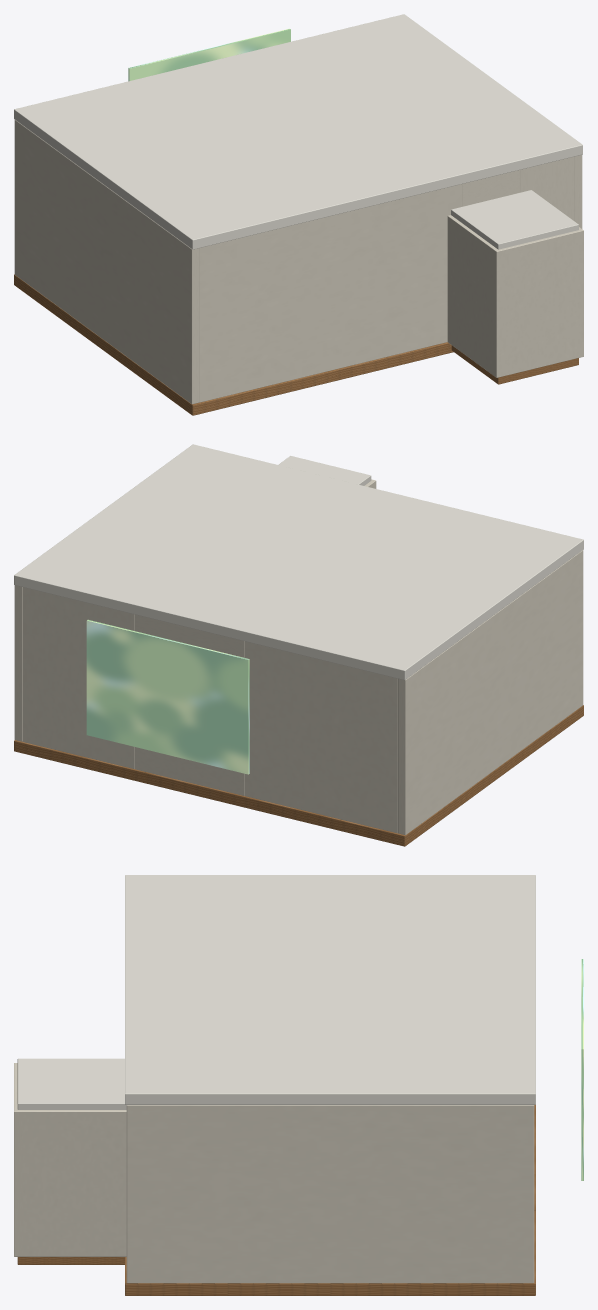
The model's file is SMASH_LAB_Kitchen.gltf.
3 views of the same model, one above another, from view 1: azimuth 30°, elevation 25°; view 2: azimuth 150°, elevation 25°; view 3: azimuth 270°, elevation 25° (orthographic). The views are drawn at different scales.
Parts seen in each view (by area): view 1: Ceiling, Wall_Front_Left, Wall_Left, Corridor_End_Wall, Corridor_Wall_Left, Floor, Corridor_Ceiling, Window_Exterior_Garden, Wall_Front_Right, Wall_Front_Door_Lintel, Corridor_Floor, Wall_Right; view 2: Ceiling, Wall_Left, Wall_Back_Left, Window_Exterior_Garden, Wall_Back_Right, Floor, Wall_Back_Window_Base, Wall_Back_Window_Lintel, Wall_Right, Corridor_Ceiling; view 3: Ceiling, Wall_Right, Corridor_Wall_Right, Floor, Corridor_Ceiling, Corridor_End_Wall, Corridor_Floor, Window_Exterior_Garden.
Part boxes in pixels (x1,y1,x2,y2): Ceiling: [14, 14, 582, 249]; Wall_Front_Left: [199, 184, 462, 402]; Wall_Left: [14, 120, 199, 404]; Corridor_End_Wall: [492, 227, 583, 377]; Corridor_Wall_Left: [447, 215, 495, 374]; Floor: [14, 274, 453, 415]; Corridor_Ceiling: [451, 190, 578, 249]; Window_Exterior_Garden: [128, 28, 290, 81]; Wall_Front_Right: [520, 156, 574, 220]; Wall_Front_Door_Lintel: [462, 170, 519, 206]; Corridor_Floor: [451, 345, 578, 384]; Wall_Right: [574, 155, 582, 228]; Ceiling: [14, 444, 583, 680]; Wall_Left: [398, 550, 583, 835]; Wall_Back_Left: [244, 641, 397, 833]; Window_Exterior_Garden: [86, 619, 249, 774]; Wall_Back_Right: [22, 587, 134, 768]; Floor: [14, 705, 583, 846]; Wall_Back_Window_Base: [134, 747, 244, 795]; Wall_Back_Window_Lintel: [134, 614, 244, 657]; Wall_Right: [14, 585, 22, 741]; Corridor_Ceiling: [278, 456, 371, 485]; Ceiling: [125, 875, 535, 1104]; Wall_Right: [126, 1105, 534, 1283]; Corridor_Wall_Right: [15, 1108, 126, 1256]; Floor: [125, 1105, 535, 1295]; Corridor_Ceiling: [17, 1058, 126, 1109]; Corridor_End_Wall: [14, 1063, 23, 1256]; Corridor_Floor: [17, 1257, 124, 1264]; Window_Exterior_Garden: [581, 959, 583, 1180].
Size of the model in its own units: 7.5 by 3.23 by 8.25.
55 materials, 9 textured.
